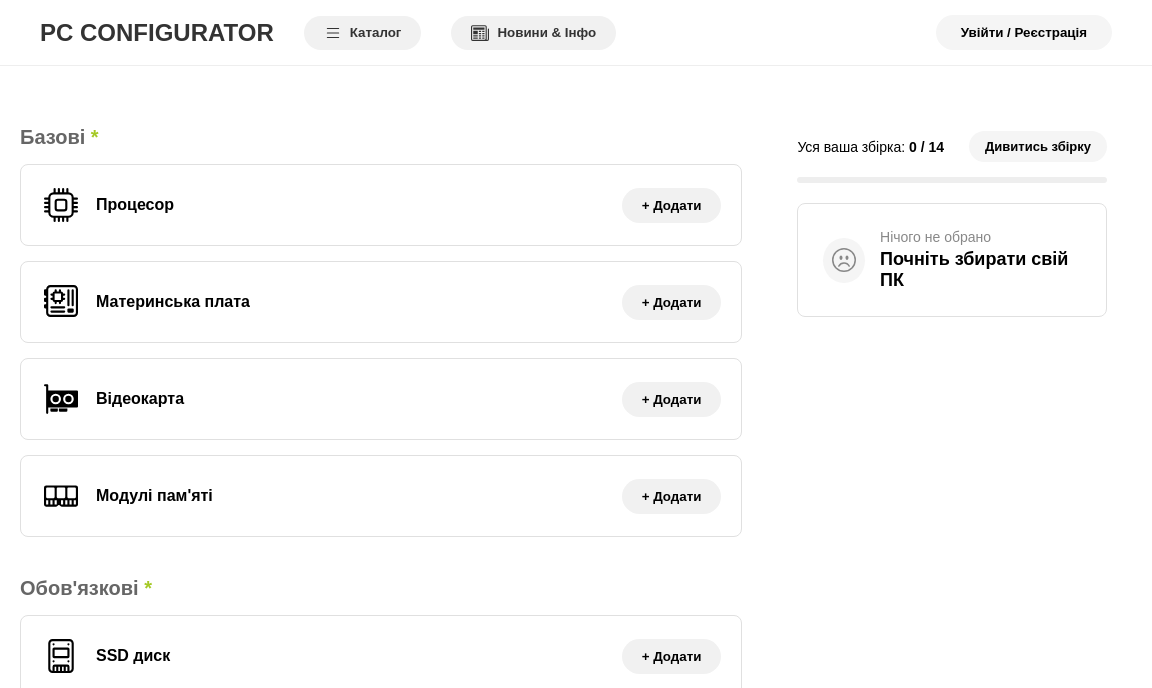
it: ConfiguratorPage › shows warning if Power Supply wattage is insufficient
The width and height of the screenshot is (1152, 688).
Click the text "Відеокарта": (140, 399) [96,390,184,408]
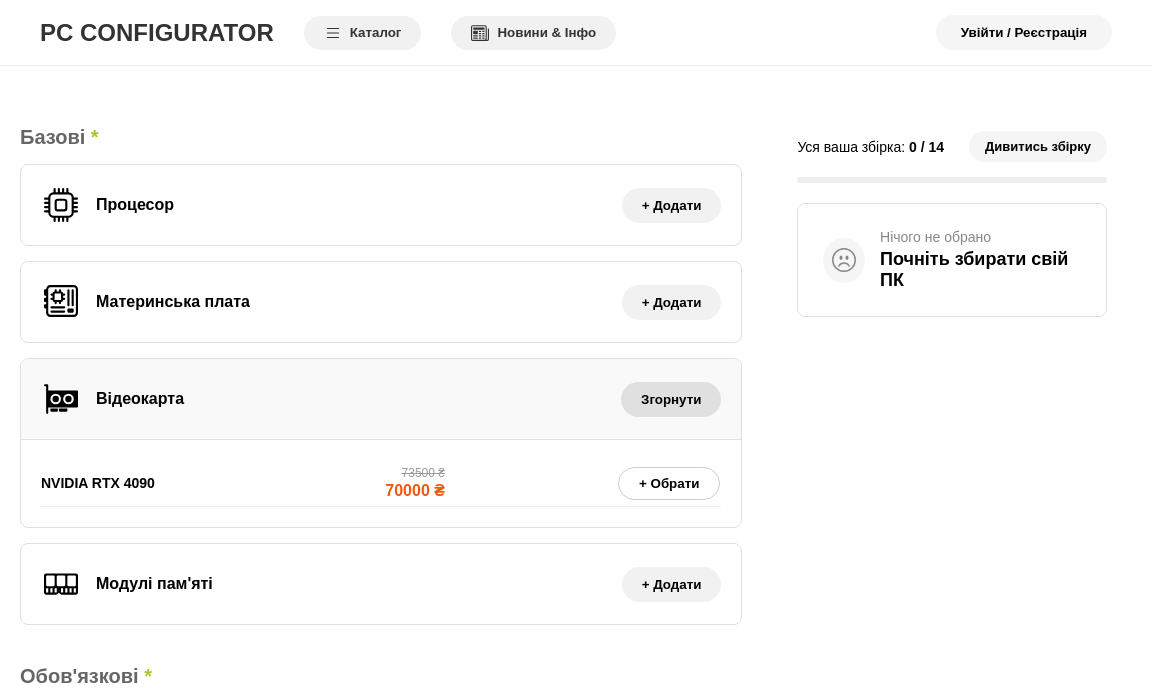
Click the button "+ Обрати": (669, 483) [618,466,720,500]
(page scrolled)
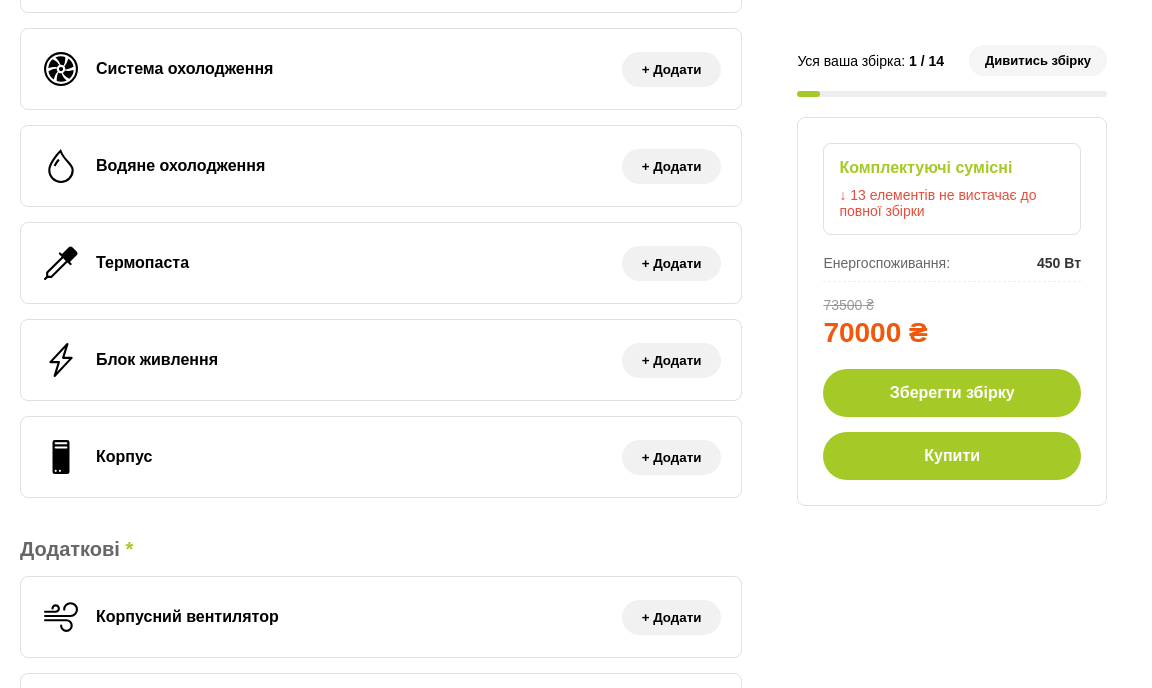
Click the text "Блок живлення": (157, 360) [96,351,218,369]
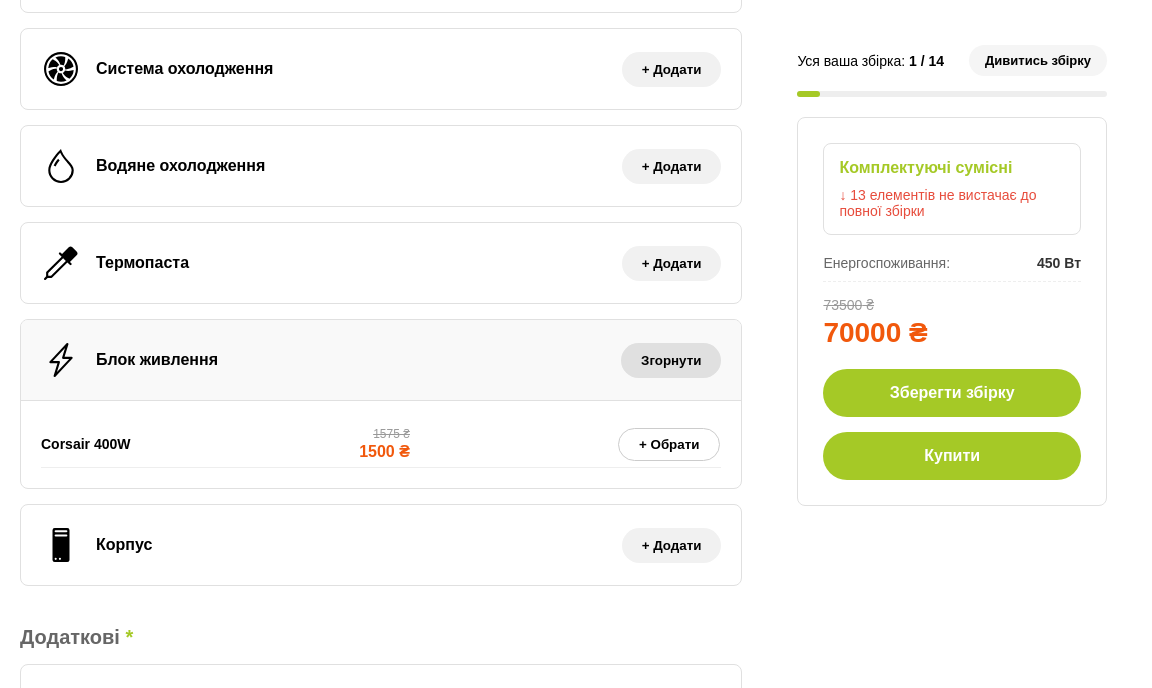
Click the button "+ Обрати": (669, 444) [618,428,720,460]
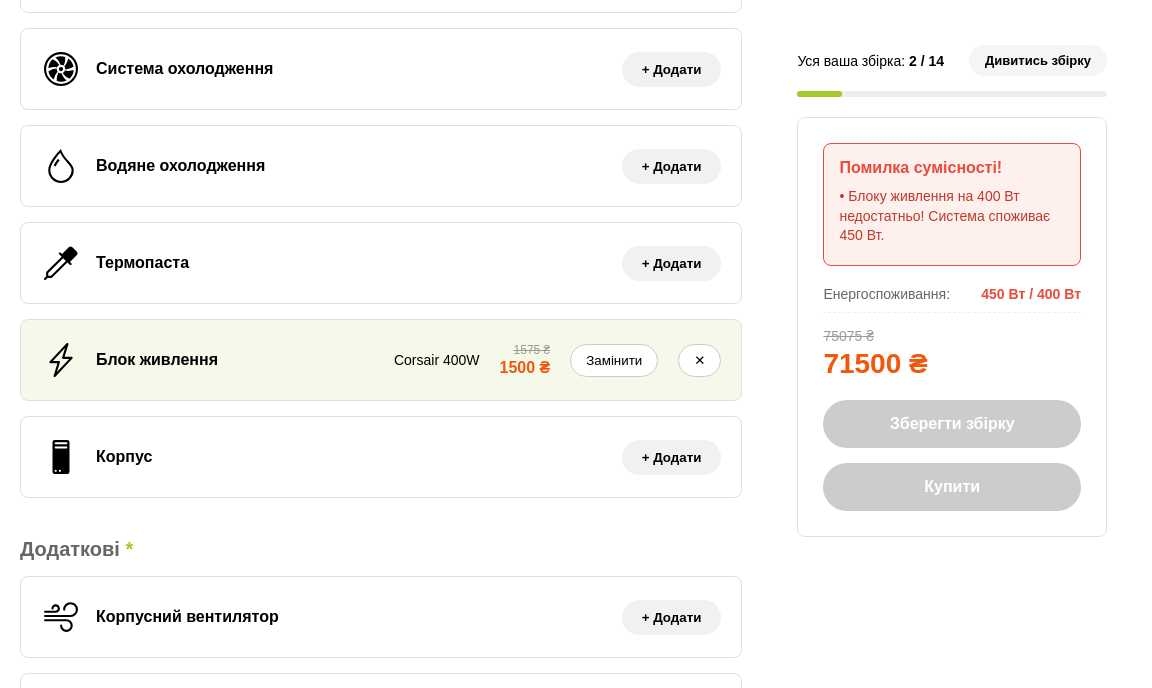
Expected: the text "Блоку живлення на 400 Вт недостатньо" is shown, [839,188,1050,243]
